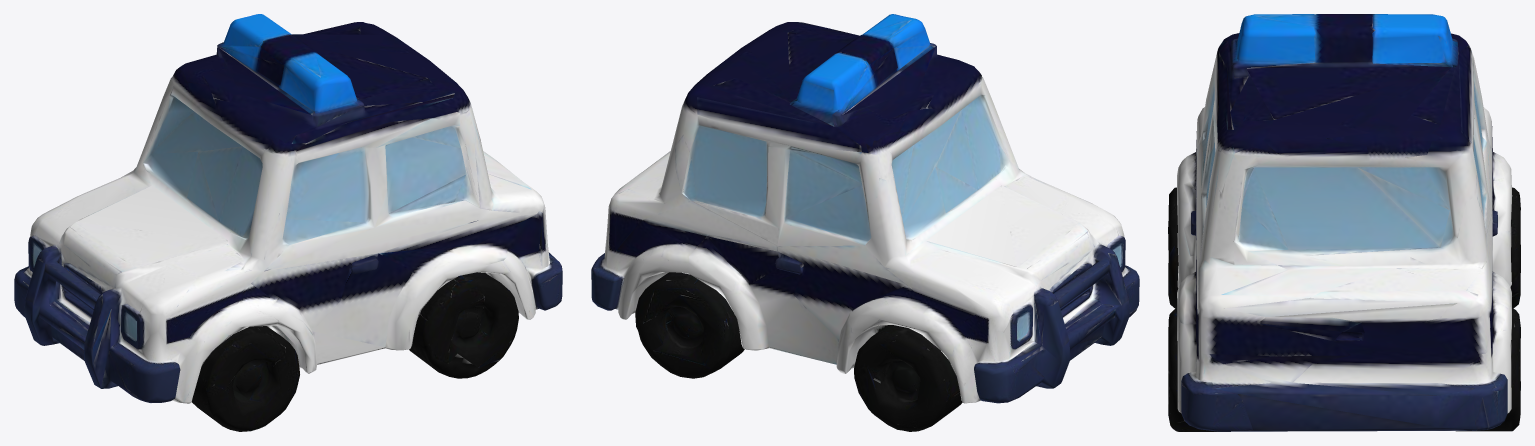
File: police-car-512.glb
The picture shows the model from 3 angles, left to right: view 1: azimuth 30°, elevation 25°; view 2: azimuth 150°, elevation 25°; view 3: azimuth 270°, elevation 25°; orthographic projection. The views are drawn at different scales.
Bounding box in the file's own units: 1.9 × 1.23 × 1.14.
1 material, 1 textured.
